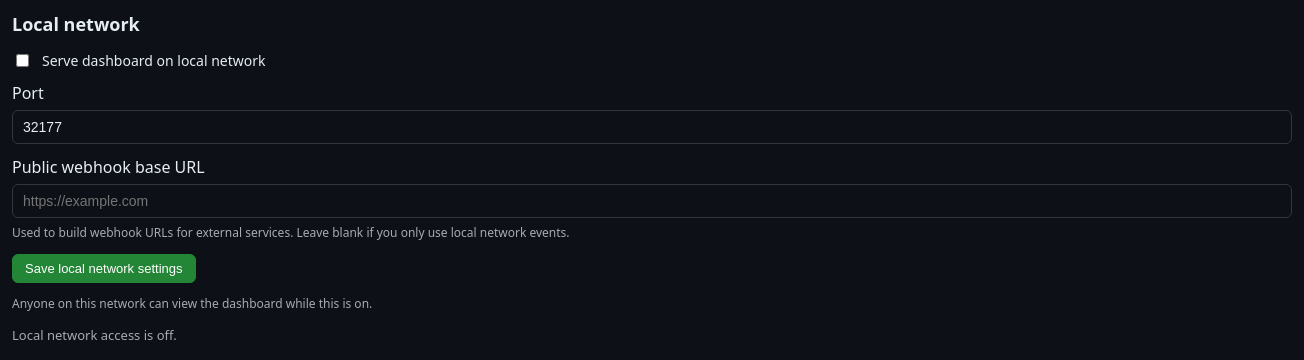
Test: LanSettings › validates the port before saving
Replace the text in the number field labelled "Port" with "80" at [652, 127], box [12,110,1292,144]
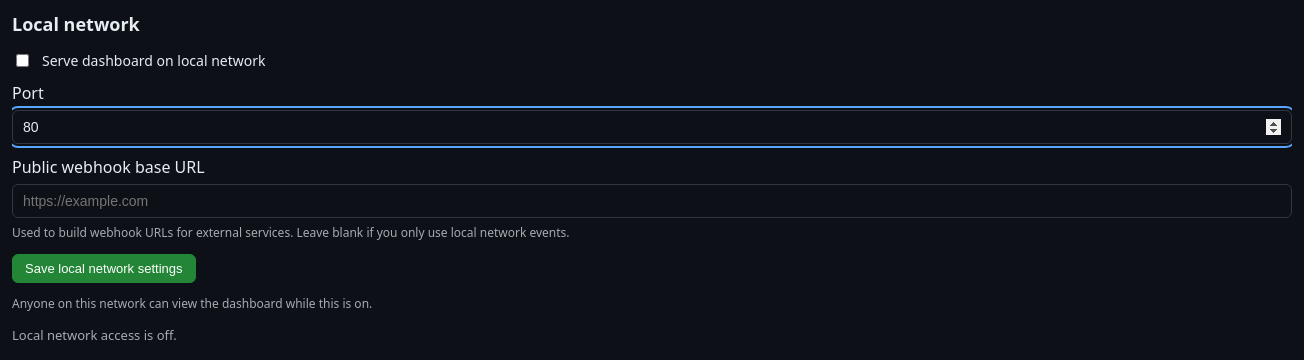
Click the button "Save local network settings" at [104, 268], box [12,254,196,283]
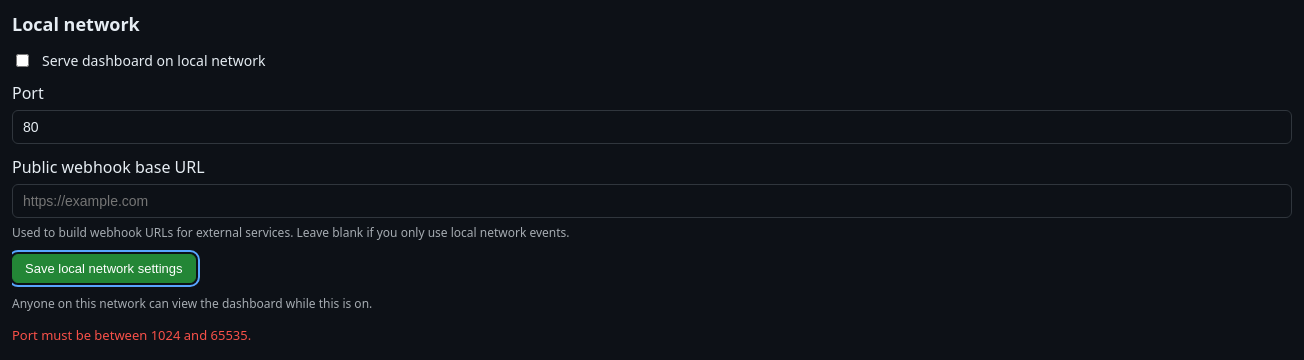
Expected: the message reads "Port must be between 1024 and 65535.", [12,326,251,344]
